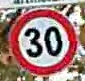limite 30: (8, 8, 78, 75)
